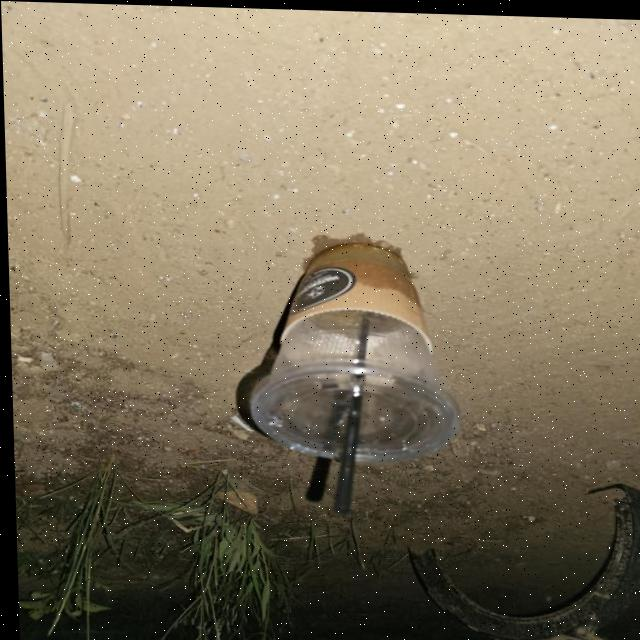cup: (238, 232, 463, 469)
